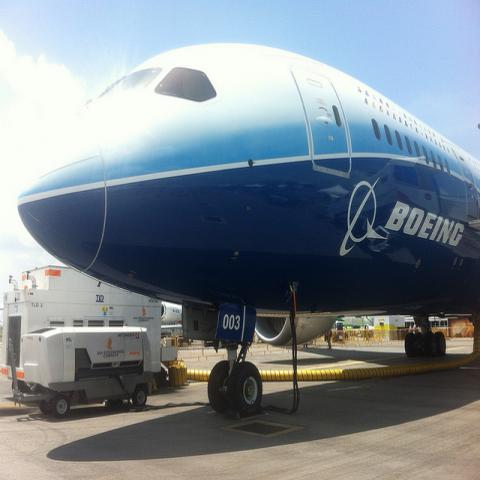bus: (405, 316, 449, 338)
truck: (9, 327, 155, 419)
